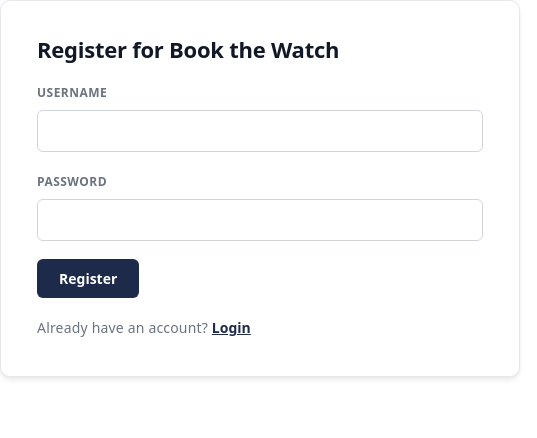
Test: RegistrationForm › shows the server error message on failure (e.g. duplicate username)
The image size is (537, 438).
In the field labelled "Username": [260, 131] box [37,110,483,152], type "alice"
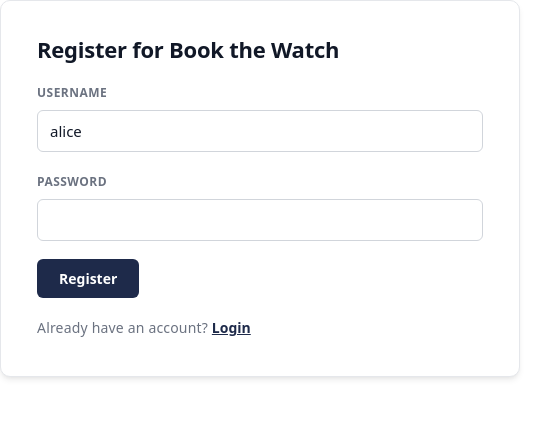
In the password field labelled "Password": [260, 220] box [37,199,483,241], type "password1"
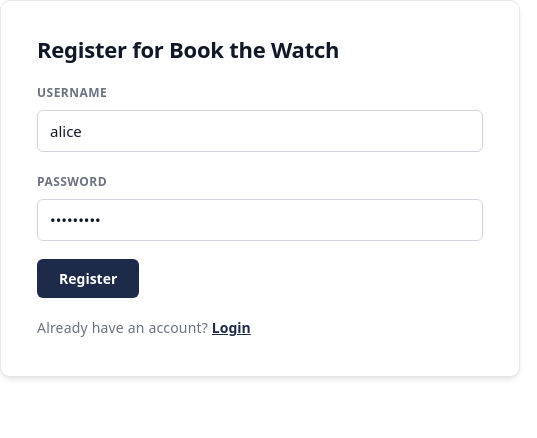
Click the button "Register": [88, 279] box [37,259,139,298]
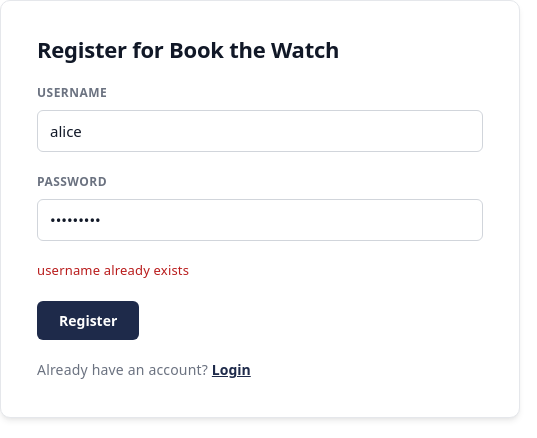
Result: the text "username already exists" is shown at [37,261,189,279]
